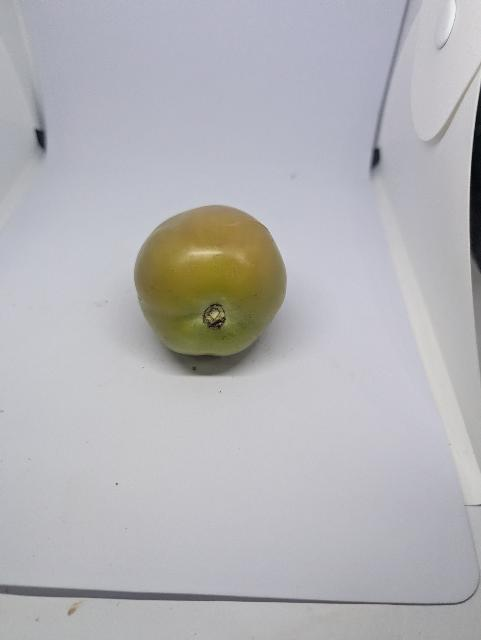breaker: (135, 205, 287, 356)
